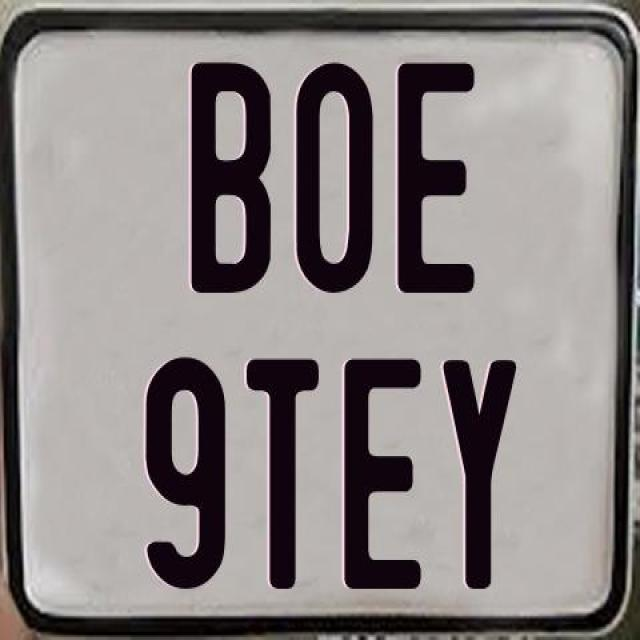0: (296, 59, 376, 290)
9: (144, 355, 232, 595)
B: (190, 61, 274, 294)
E: (344, 356, 426, 590), (396, 63, 474, 294)
T: (245, 357, 319, 592)
Y: (438, 358, 512, 588)
